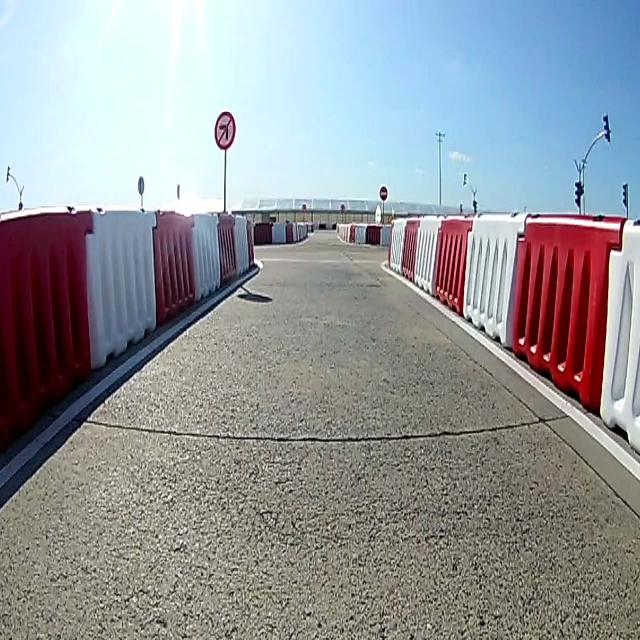girisyok: (379, 186, 387, 201)
soladonulmez: (215, 111, 235, 149)
